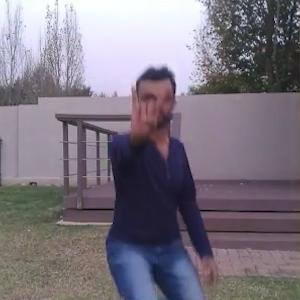takeoff-hand: (119, 77, 167, 144)
